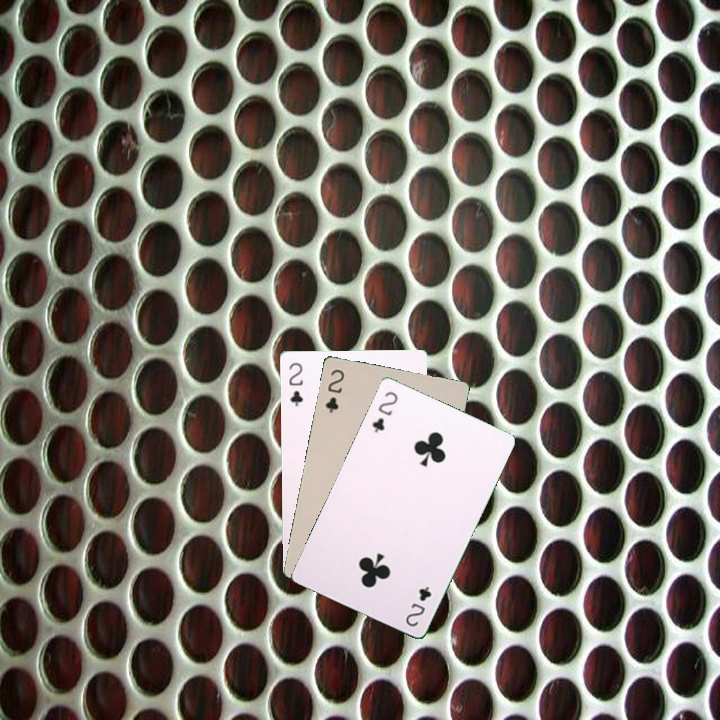2c: (368, 387, 401, 435), (401, 582, 434, 629), (321, 365, 347, 415), (285, 359, 305, 409)
